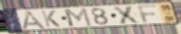8: (91, 7, 110, 26)
A: (21, 10, 48, 31)
F: (137, 4, 158, 24)
K: (41, 9, 63, 28)
M: (62, 7, 94, 27)
X: (112, 5, 144, 25)
